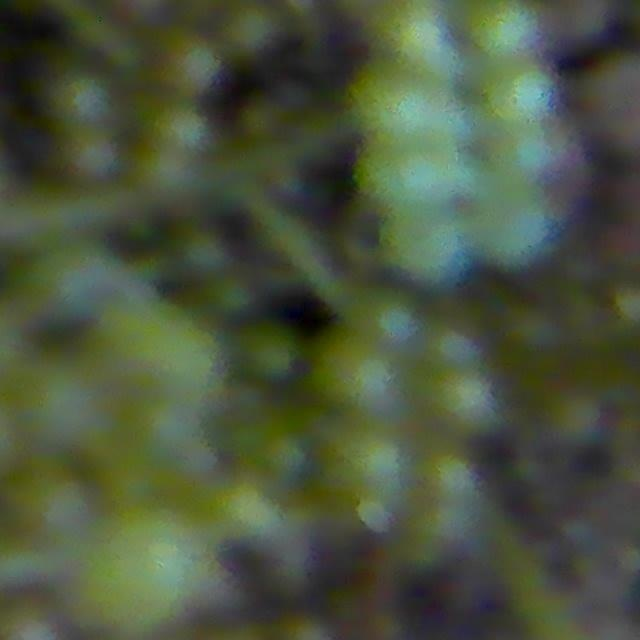SeaGrape: (66, 513, 200, 627), (122, 304, 231, 410), (19, 360, 117, 456), (354, 63, 453, 148), (31, 238, 126, 324), (307, 330, 395, 417), (11, 468, 99, 552), (356, 137, 453, 213), (387, 206, 474, 277), (427, 365, 506, 441), (481, 125, 578, 185), (368, 2, 450, 72), (333, 430, 406, 506), (484, 64, 561, 136), (458, 0, 543, 64), (479, 200, 554, 264), (357, 290, 426, 357), (159, 31, 224, 98), (49, 69, 115, 132), (237, 323, 301, 384), (151, 102, 213, 160), (424, 323, 482, 377)
